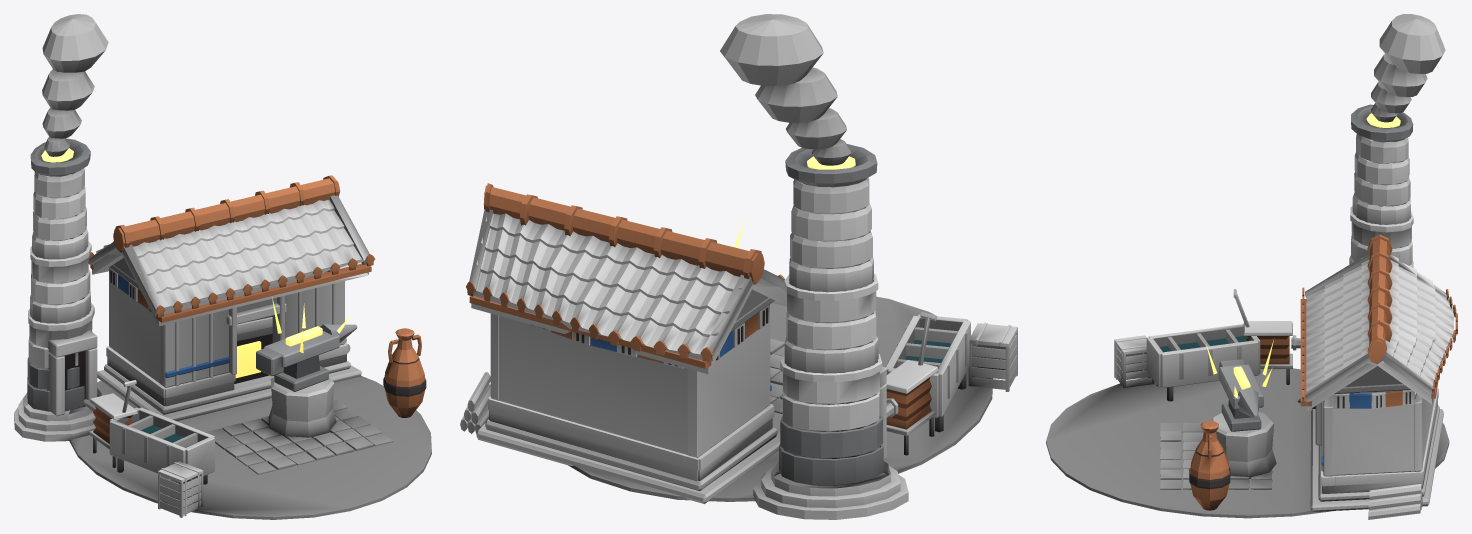
Rendered from hephaestus-forge-l2.glb.
3 renders of one model, left to right at view 1: azimuth 30°, elevation 25°; view 2: azimuth 150°, elevation 25°; view 3: azimuth 270°, elevation 25°, orthographic. The views are drawn at different scales.
Parts seen in each view (by area): view 1: hephaestus-forge-l2; view 2: hephaestus-forge-l2; view 3: hephaestus-forge-l2.
Boxes of the visible parts, bbox=[...] form: hephaestus-forge-l2: bbox=[14, 14, 431, 519]; hephaestus-forge-l2: bbox=[460, 14, 1017, 519]; hephaestus-forge-l2: bbox=[1046, 14, 1457, 519].
Size of the model in its own units: 1.35 by 1.5 by 1.45.
